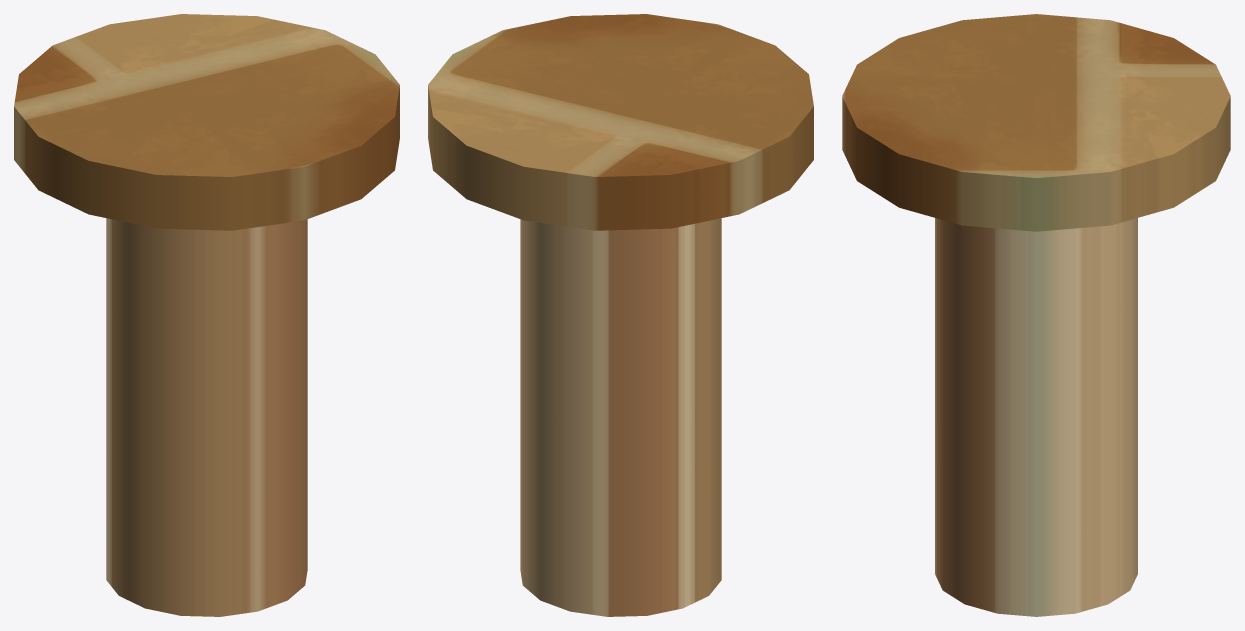
File: MayanTrapPiston.fbx
3 views of the same model, side by side, from view 1: azimuth 30°, elevation 25°; view 2: azimuth 150°, elevation 25°; view 3: azimuth 270°, elevation 25° (orthographic).
Visible parts, largest first — view 1: Cylinder.001; view 2: Cylinder.001; view 3: Cylinder.001.
Boxes of the visible parts, bbox=[...] form: Cylinder.001: bbox=[14, 14, 399, 616]; Cylinder.001: bbox=[428, 14, 813, 616]; Cylinder.001: bbox=[842, 14, 1230, 616].
Bounding box in the file's own units: 525 × 712 × 525.
2 materials, 2 textured.
